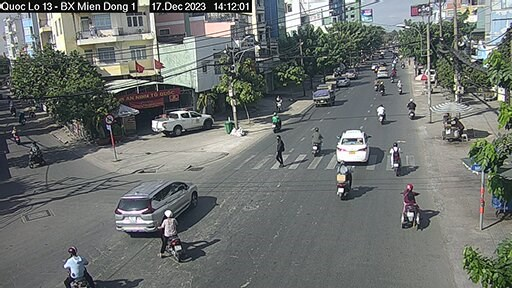car: (113, 179, 201, 232), (151, 109, 215, 137), (335, 130, 369, 163), (377, 66, 392, 79)
motorbike: (152, 215, 190, 264), (54, 246, 89, 288), (399, 186, 422, 227), (307, 126, 329, 157), (337, 167, 354, 202), (387, 143, 403, 174), (268, 109, 284, 133), (377, 104, 389, 125), (409, 99, 417, 120)
truck: (312, 82, 338, 107)
